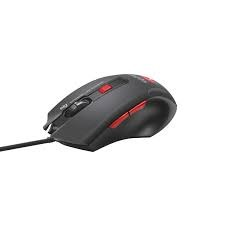mouse: (44, 73, 186, 155)
